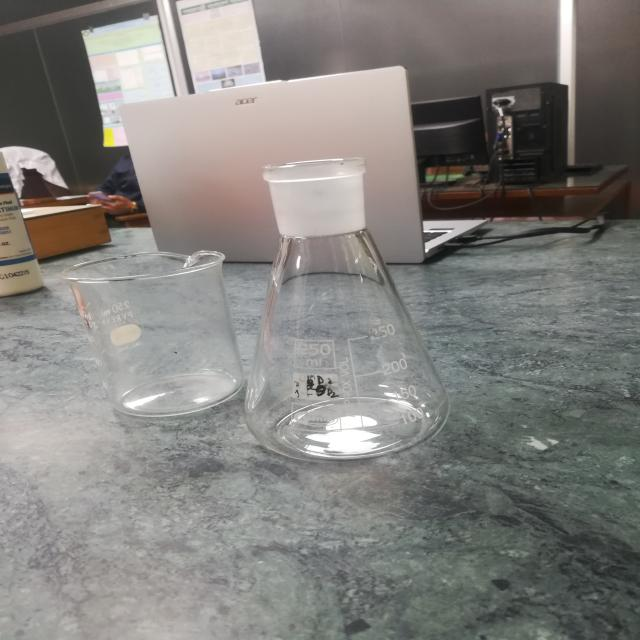Beaker: (43, 215, 246, 418)
Conical_Flask: (241, 136, 483, 475)
